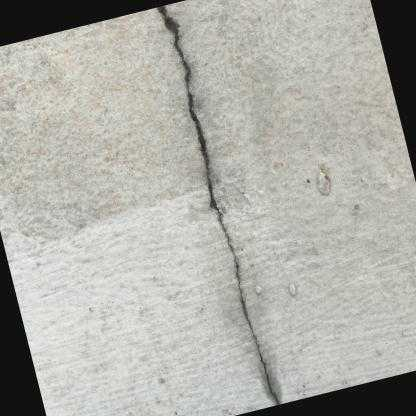crack: (157, 4, 281, 406)
